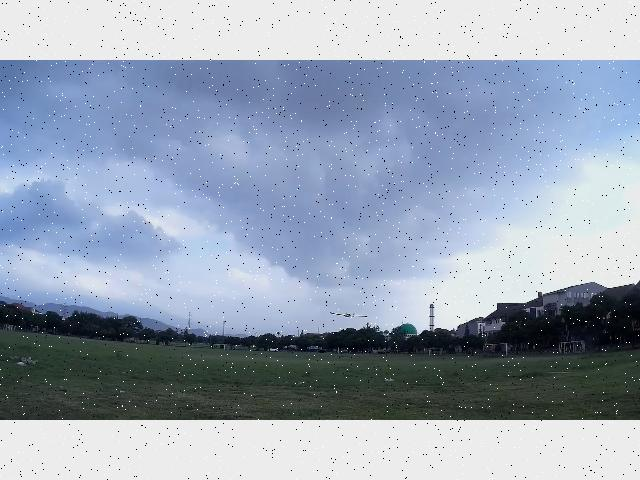Anti-Drone: (330, 311, 370, 317)
